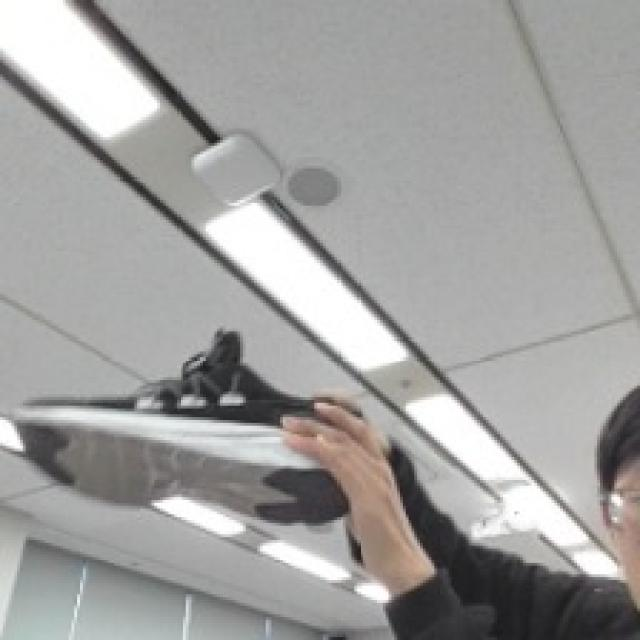shoe: (13, 319, 372, 525)
